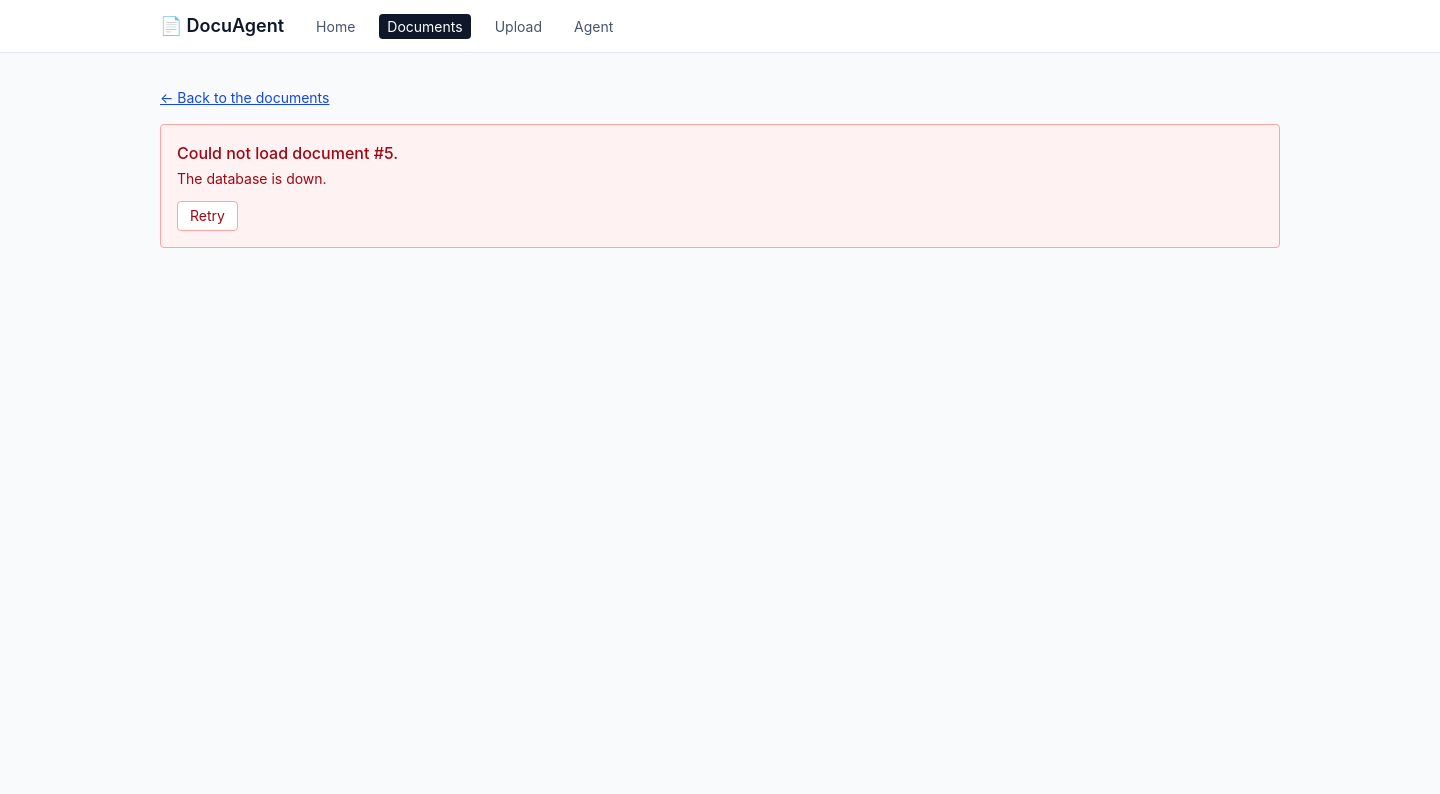
Scenario: Document detail page › loading, errors and not found › shows the error with a Retry that loads the document
This screenshot has width=1440, height=794.
Expected: the message shows "Could not load document #5.", [160, 124, 1280, 248]
Expected: the message shows "The database is down.", [177, 170, 327, 187]
Click the button "Retry" at (207, 216), box [177, 201, 238, 231]
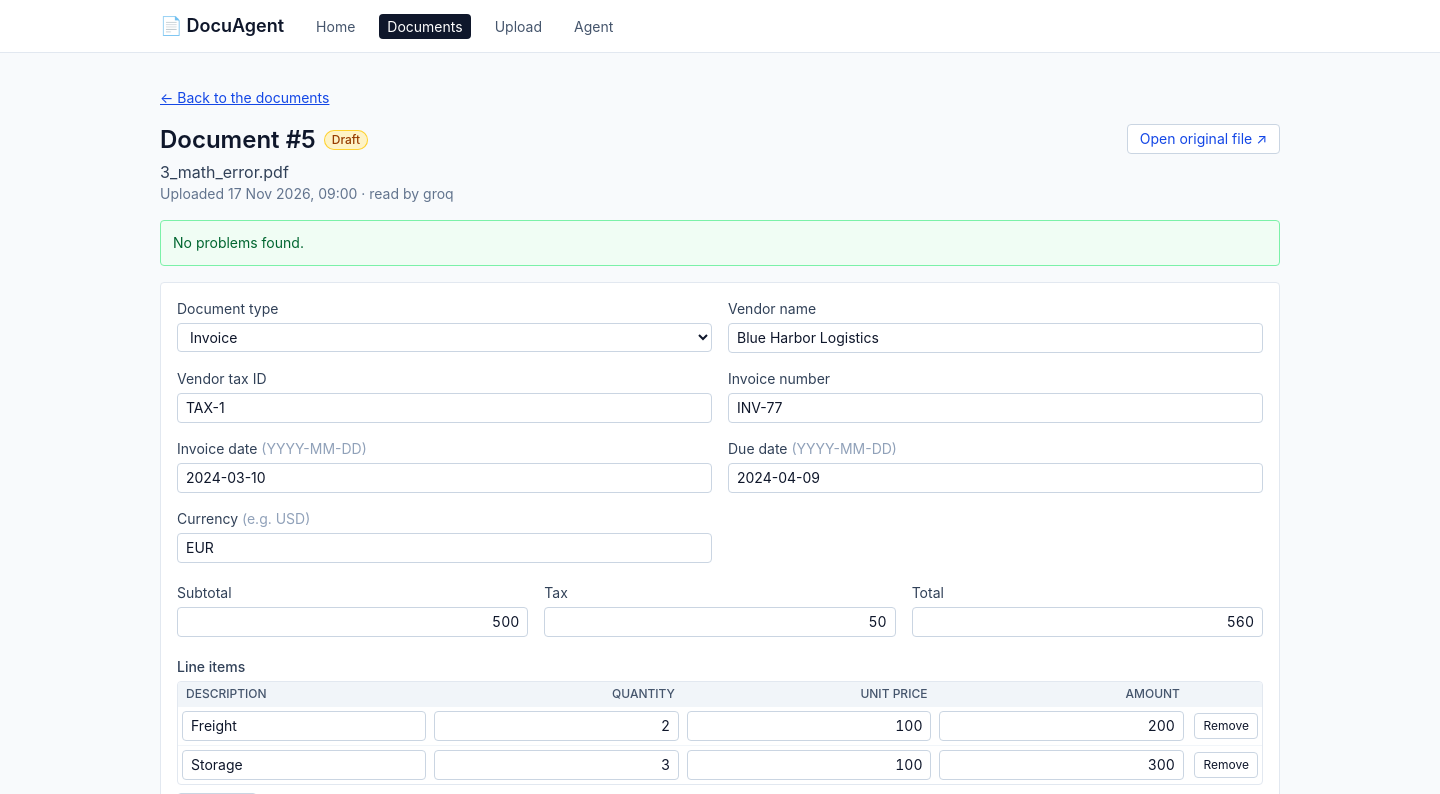
Now the heading "Document #5 Draft" is shown, box [160, 125, 368, 154]
Now the message "Could not load document #5. The database is down. Retry" is gone
